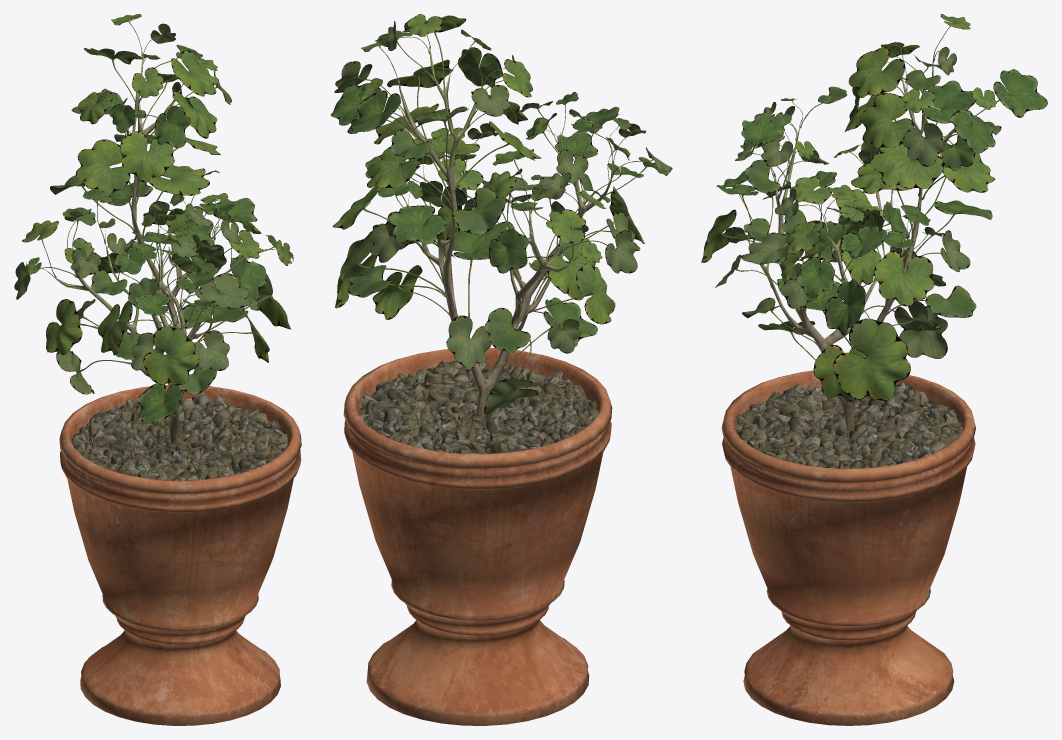
File: potted_plant_01.glb
The picture shows the model from 3 angles, left to right: view 1: azimuth 30°, elevation 25°; view 2: azimuth 150°, elevation 25°; view 3: azimuth 270°, elevation 25°; orthographic projection. The views are drawn at different scales.
Visible parts, largest first — view 1: potted_plant_01_stem, potted_plant_01_leaves; view 2: potted_plant_01_stem, potted_plant_01_leaves; view 3: potted_plant_01_stem, potted_plant_01_leaves.
Boxes of the visible parts, left/top/right/bottom form: potted_plant_01_stem: left=54, top=54, right=301, bottom=725; potted_plant_01_leaves: left=14, top=14, right=293, bottom=424; potted_plant_01_stem: left=343, top=48, right=613, bottom=725; potted_plant_01_leaves: left=331, top=14, right=672, bottom=414; potted_plant_01_stem: left=721, top=55, right=975, bottom=725; potted_plant_01_leaves: left=701, top=14, right=1047, bottom=401.
Bounding box in the file's own units: 0.5874 × 1.34 × 0.6336.
Materials: 2 (2 with a texture image).
